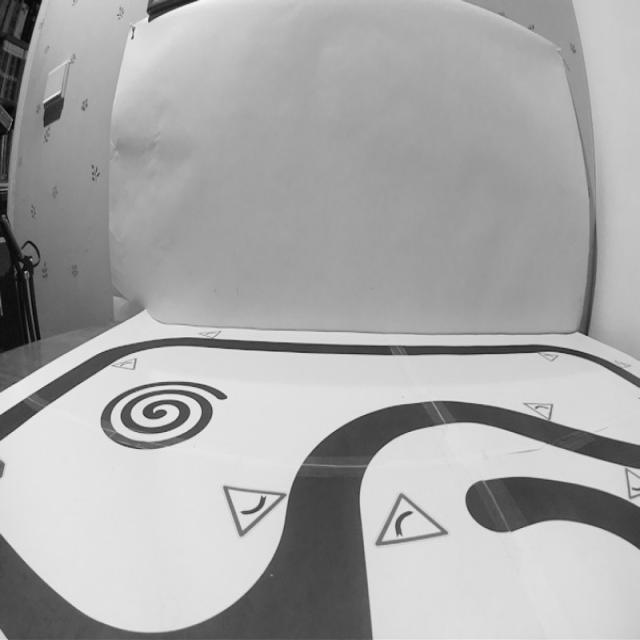laneRightTurn: (275, 404, 382, 640)
nest: (97, 374, 234, 452)
